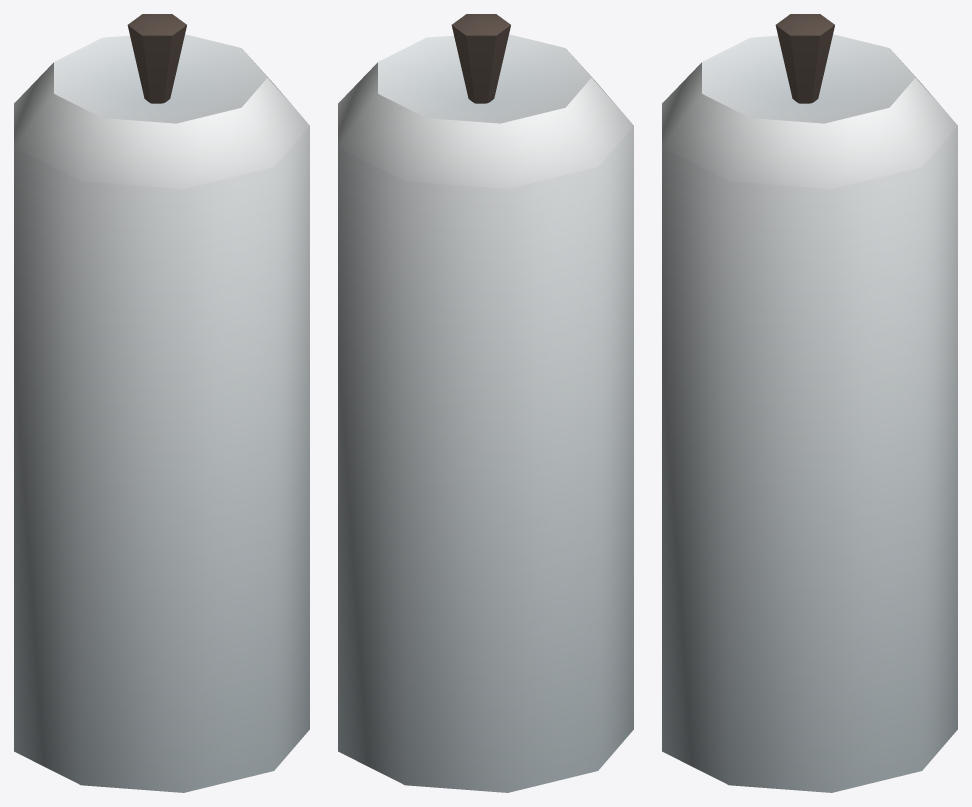
Rendered from candle.obj.
3 renders of one model, left to right at view 1: azimuth 30°, elevation 25°; view 2: azimuth 150°, elevation 25°; view 3: azimuth 270°, elevation 25°, orthographic.
Visible parts, largest first — view 1: candle_Cylinder.112; view 2: candle_Cylinder.112; view 3: candle_Cylinder.112.
Boxes of the visible parts, x1=… form: candle_Cylinder.112: x1=14, y1=14, x2=309, y2=792; candle_Cylinder.112: x1=338, y1=14, x2=633, y2=792; candle_Cylinder.112: x1=662, y1=14, x2=957, y2=792.
Bounding box in the file's own units: 0.3009 × 0.7857 × 0.2964.
Materials: 1 (1 with a texture image).
